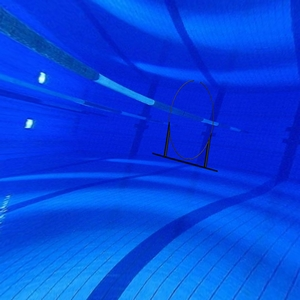circle: (152, 79, 220, 173)
